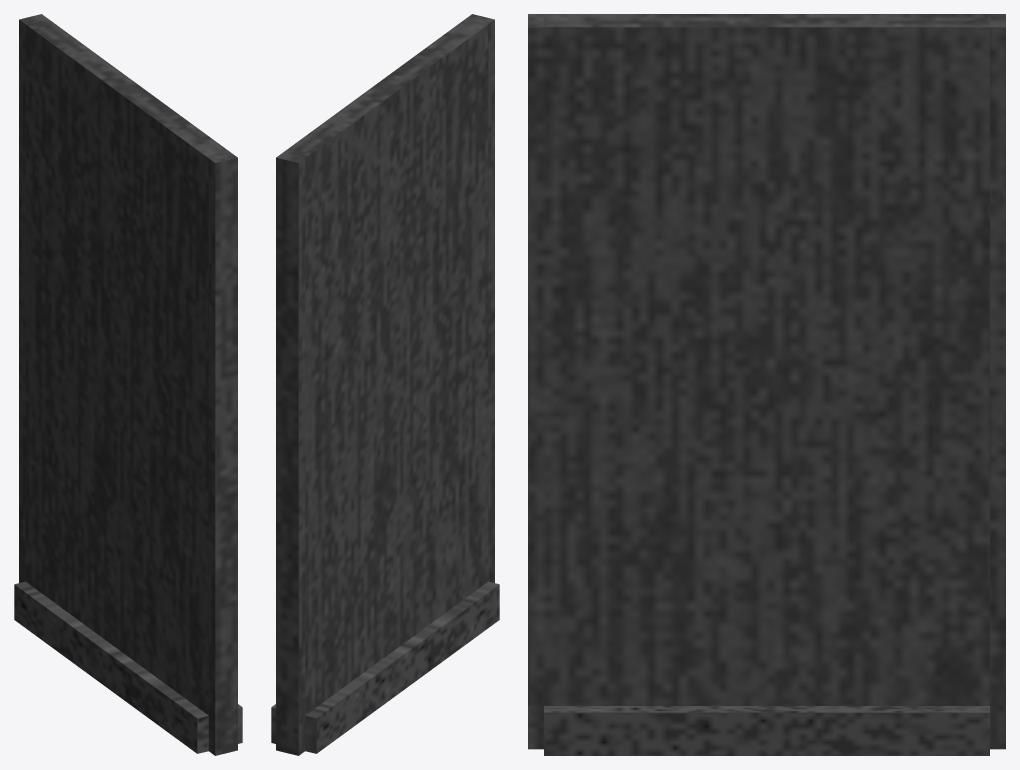
File: MetalSlideDoor.fbx
The picture shows the model from 3 angles, left to right: view 1: azimuth 30°, elevation 25°; view 2: azimuth 150°, elevation 25°; view 3: azimuth 270°, elevation 25°; orthographic projection. The views are drawn at different scales.
Parts seen in each view (by area): view 1: Cube.012; view 2: Cube.012; view 3: Cube.012.
Part boxes in pixels (x1,y1,x2,y2): Cube.012: (14, 14, 242, 755); Cube.012: (271, 14, 499, 755); Cube.012: (528, 14, 1005, 755).
Bounding box in the file's own units: 25 × 313 × 188.
